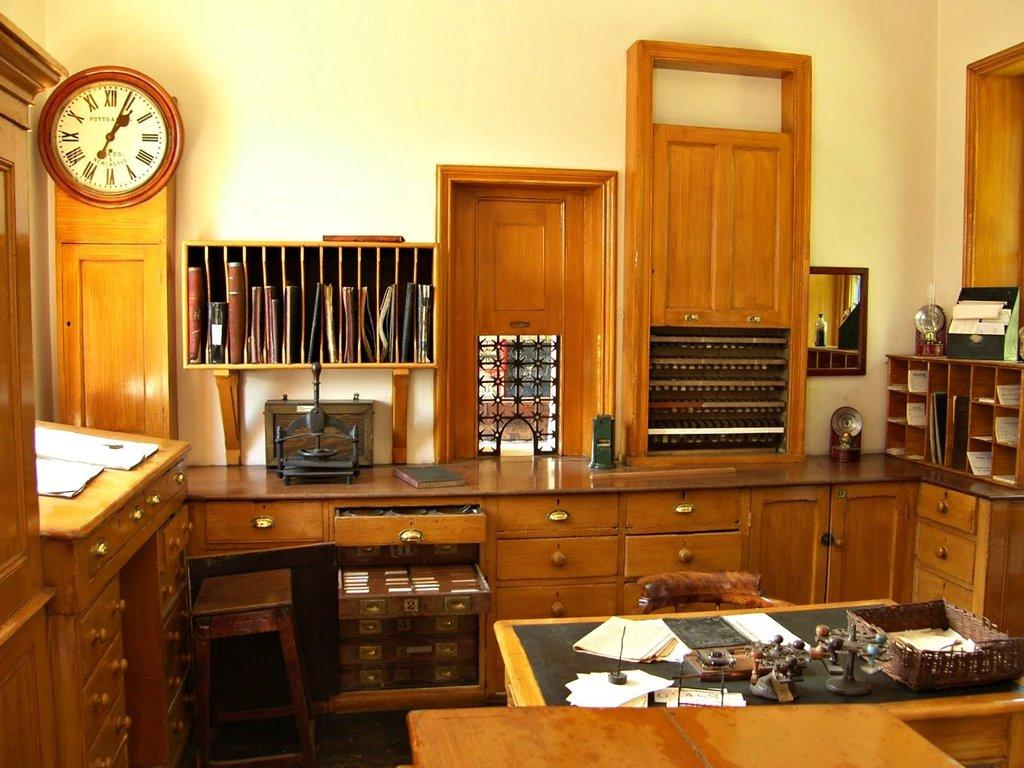cabinet_door: (70, 255, 162, 422), (729, 141, 793, 323), (659, 134, 719, 324), (480, 198, 558, 324), (754, 503, 824, 596), (195, 502, 329, 548), (840, 490, 898, 591), (334, 514, 480, 548), (504, 542, 614, 578), (507, 499, 619, 531), (500, 584, 622, 612), (629, 534, 729, 568), (636, 498, 734, 527), (77, 668, 129, 718), (918, 535, 978, 576), (77, 596, 129, 637), (407, 645, 471, 671), (86, 518, 124, 559), (417, 594, 476, 620), (926, 494, 976, 524), (350, 666, 410, 688), (346, 598, 404, 620), (86, 730, 126, 760), (410, 668, 480, 685), (346, 623, 398, 644), (119, 498, 152, 530), (142, 485, 172, 518), (352, 646, 402, 664), (162, 467, 190, 498), (416, 628, 474, 640)
handle: (88, 616, 110, 652), (550, 508, 584, 530), (88, 689, 113, 714), (250, 511, 278, 533), (398, 528, 428, 547), (541, 546, 571, 564), (676, 499, 710, 514), (95, 531, 113, 559), (672, 548, 698, 566), (437, 640, 465, 656), (446, 594, 472, 611), (111, 714, 135, 732), (358, 648, 384, 664), (546, 598, 570, 614), (176, 469, 189, 498), (934, 494, 948, 520), (92, 754, 118, 768), (146, 493, 162, 515), (930, 543, 948, 560), (830, 534, 846, 552), (110, 592, 122, 614), (112, 655, 126, 672), (130, 510, 144, 526), (362, 600, 380, 612)
